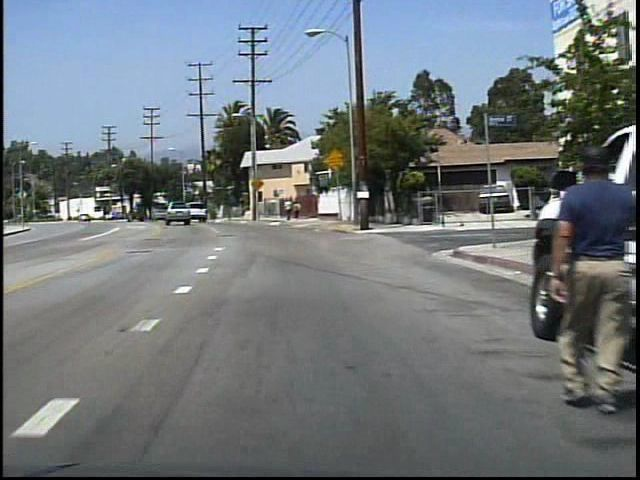person: (537, 143, 608, 403), (282, 197, 293, 221), (291, 199, 302, 221)
